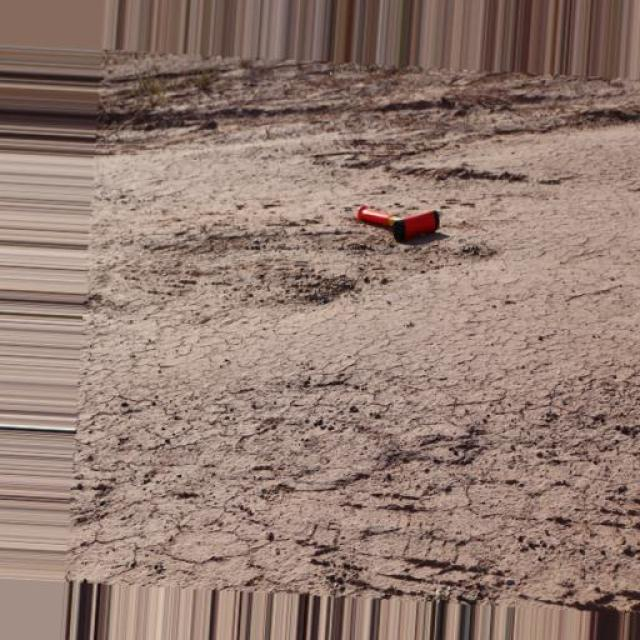mallet: (354, 204, 440, 242)
